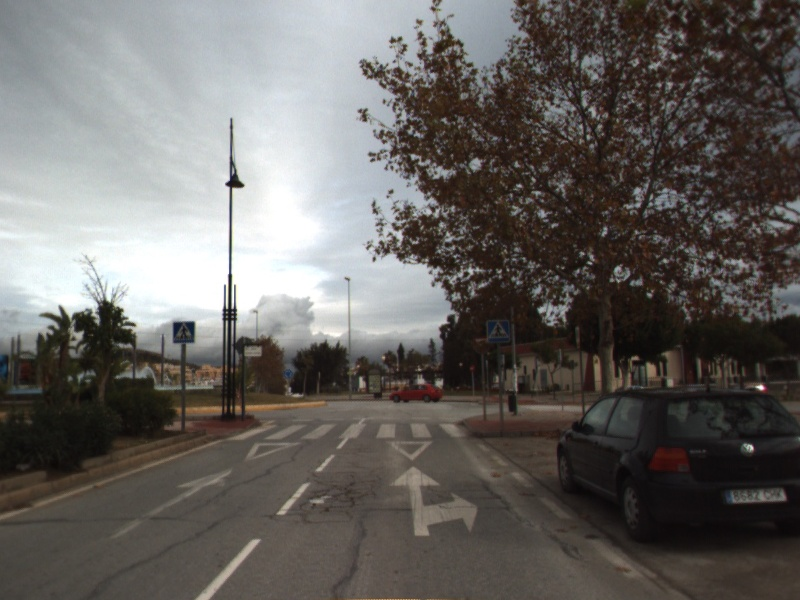STRAIGHT: (106, 465, 235, 541)
STRAIGHT_RIGHT: (387, 464, 480, 538)
